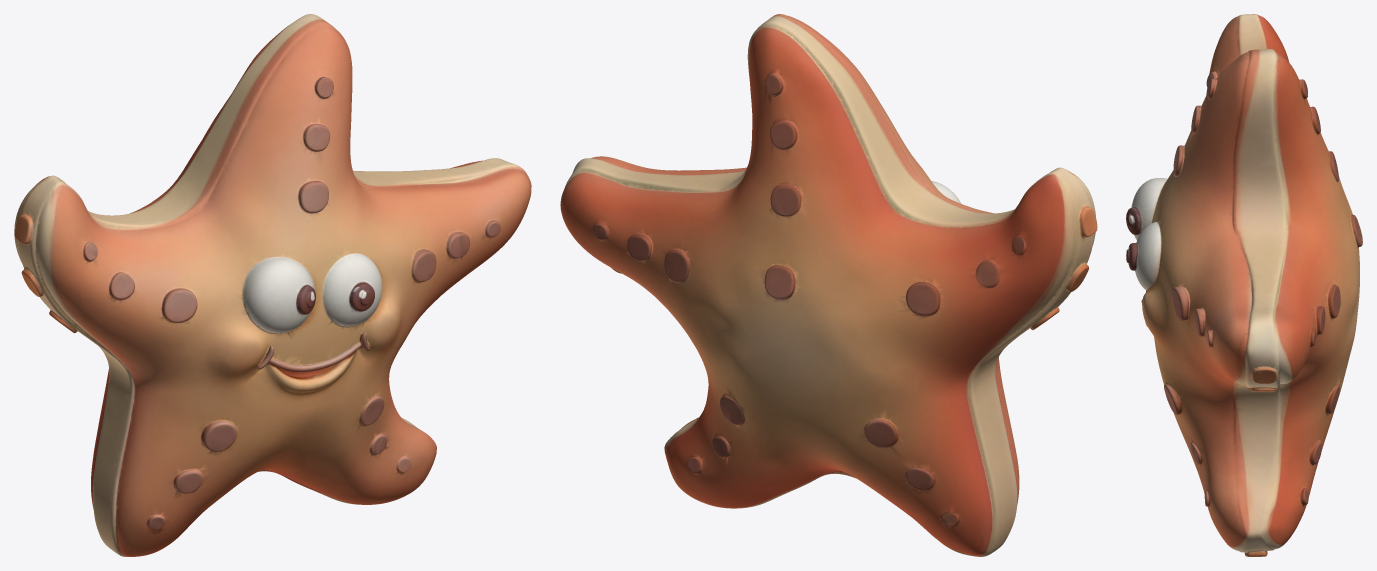
File: Stella marina.glb
3 views of the same model, side by side, from view 1: azimuth 30°, elevation 25°; view 2: azimuth 150°, elevation 25°; view 3: azimuth 270°, elevation 25° (orthographic). The views are drawn at different scales.
Bounding box in the file's own units: 1.9 × 1.73 × 0.801.
Materials: 1 (1 with a texture image).
